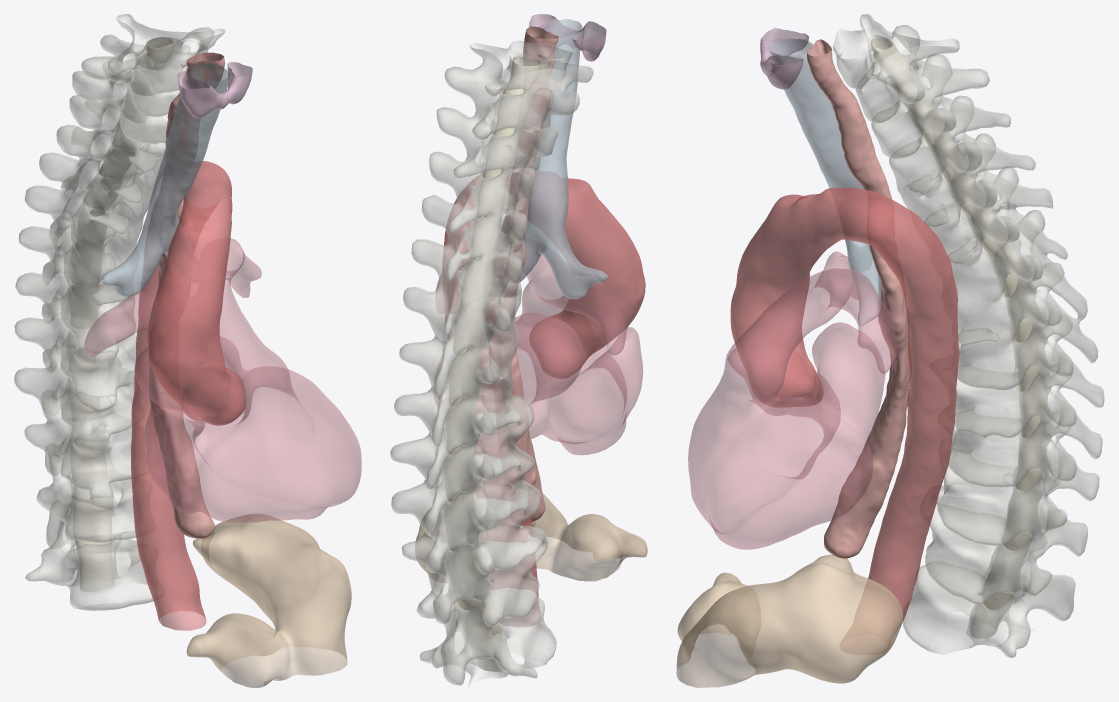
The model's file is esophagus.glb.
3 renders of one model, left to right at view 1: azimuth 30°, elevation 25°; view 2: azimuth 150°, elevation 25°; view 3: azimuth 270°, elevation 25°, orthographic. The views are drawn at different scales.
Visible parts, largest first — view 1: vertebrae, heart, aorta, stomach, spinal_cord, esophagus, trachea, thyroid_gland; view 2: vertebrae, aorta, spinal_cord, heart, trachea, esophagus, stomach, thyroid_gland; view 3: vertebrae, aorta, heart, stomach, spinal_cord, esophagus, trachea, thyroid_gland.
Part boxes in pixels (bbox=[...]): vertebrae: bbox=[14, 14, 225, 610]; heart: bbox=[84, 238, 361, 522]; aorta: bbox=[131, 161, 245, 630]; stomach: bbox=[186, 514, 351, 687]; spinal_cord: bbox=[66, 37, 174, 591]; esophagus: bbox=[148, 52, 224, 538]; trachea: bbox=[102, 63, 232, 297]; thyroid_gland: bbox=[177, 62, 252, 118]; vertebrae: bbox=[390, 41, 593, 687]; aorta: bbox=[442, 166, 645, 626]; spinal_cord: bbox=[444, 56, 540, 671]; heart: bbox=[434, 254, 643, 455]; trachea: bbox=[519, 19, 608, 299]; esophagus: bbox=[494, 26, 558, 523]; stomach: bbox=[415, 492, 647, 582]; thyroid_gland: bbox=[529, 14, 606, 61]; vertebrae: bbox=[832, 14, 1104, 657]; aorta: bbox=[730, 187, 959, 645]; heart: bbox=[688, 251, 899, 549]; stomach: bbox=[676, 554, 903, 687]; spinal_cord: bbox=[871, 37, 1047, 637]; esophagus: bbox=[807, 39, 911, 558]; trachea: bbox=[768, 38, 881, 325]; thyroid_gland: bbox=[760, 27, 809, 89].
Bounding box in the file's own units: 139 × 349 × 226.
